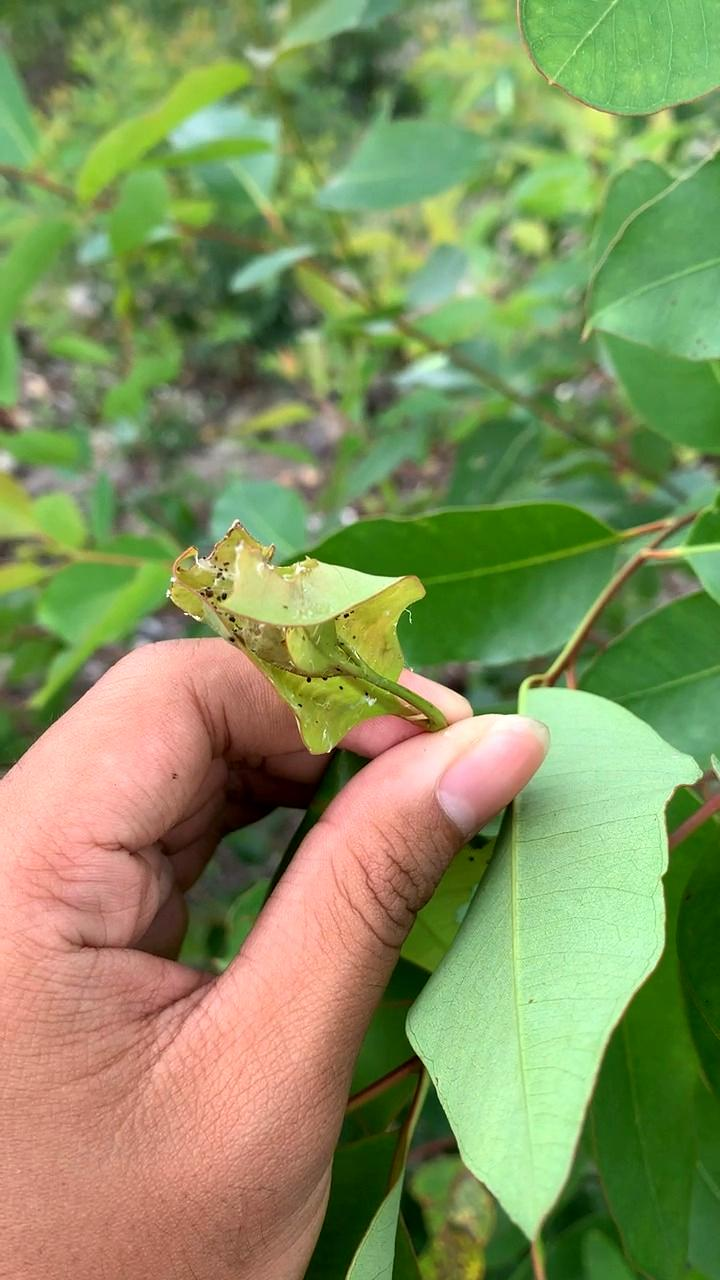Leaf Roller - Leaf: (163, 516, 425, 757)
